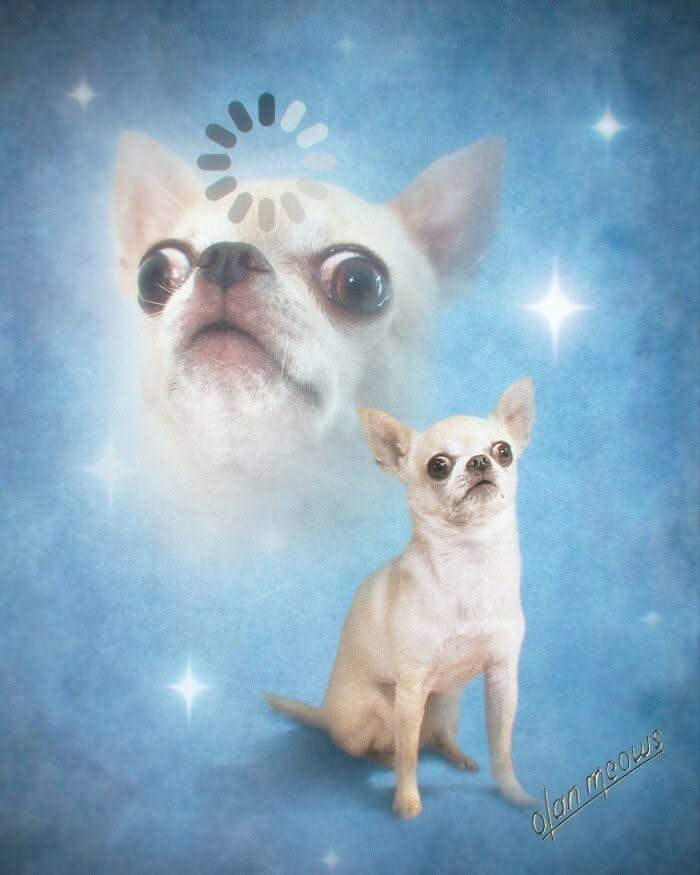adult_dog: (109, 127, 506, 510), (262, 374, 540, 820)
